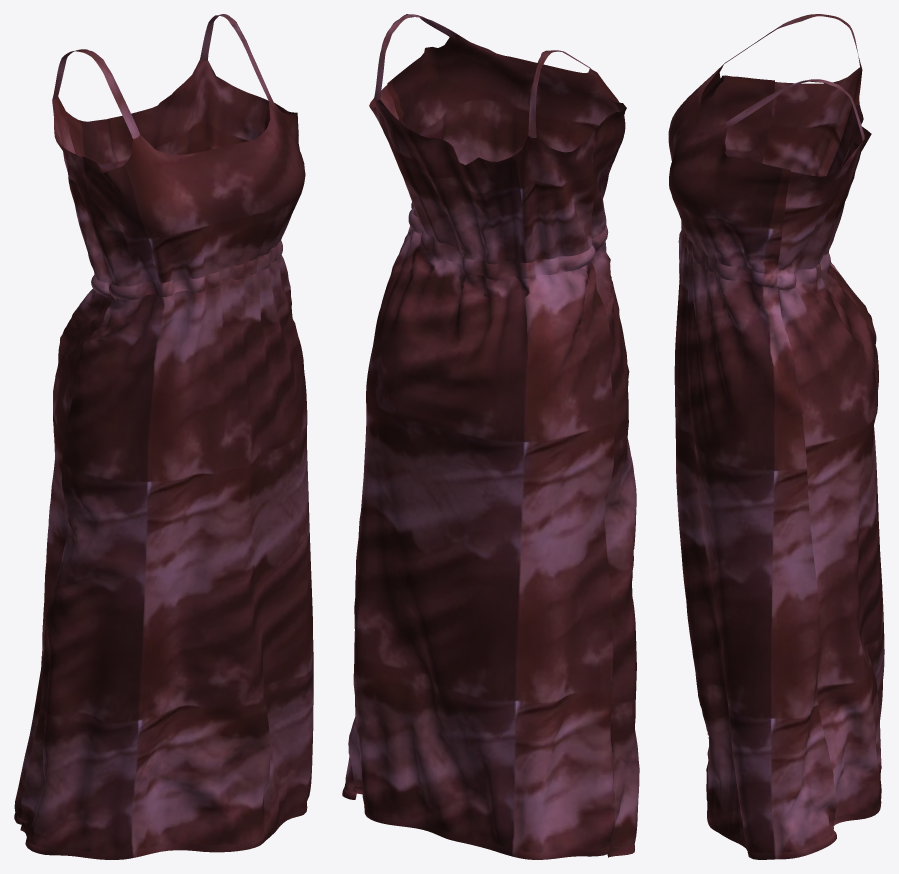
The model's file is G_clothe12.glb.
3 renders of one model, left to right at view 1: azimuth 30°, elevation 25°; view 2: azimuth 150°, elevation 25°; view 3: azimuth 270°, elevation 25°, orthographic. The views are drawn at different scales.
Visible parts, largest first — view 1: Garment; view 2: Garment; view 3: Garment.
Boxes of the visible parts, bbox=[...] form: Garment: bbox=[14, 14, 313, 859]; Garment: bbox=[342, 14, 639, 859]; Garment: bbox=[668, 14, 884, 859].
Size of the model in its own units: 0.4066 by 1.13 by 0.2905.
Materials: 1 (1 with a texture image).
